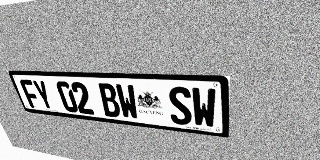0: (55, 81, 79, 113)
2: (70, 82, 94, 115)
B: (97, 83, 122, 118)
F: (19, 79, 43, 109)
S: (167, 86, 193, 126)
W: (191, 87, 216, 129), (115, 84, 140, 120)
Y: (31, 80, 55, 110)
